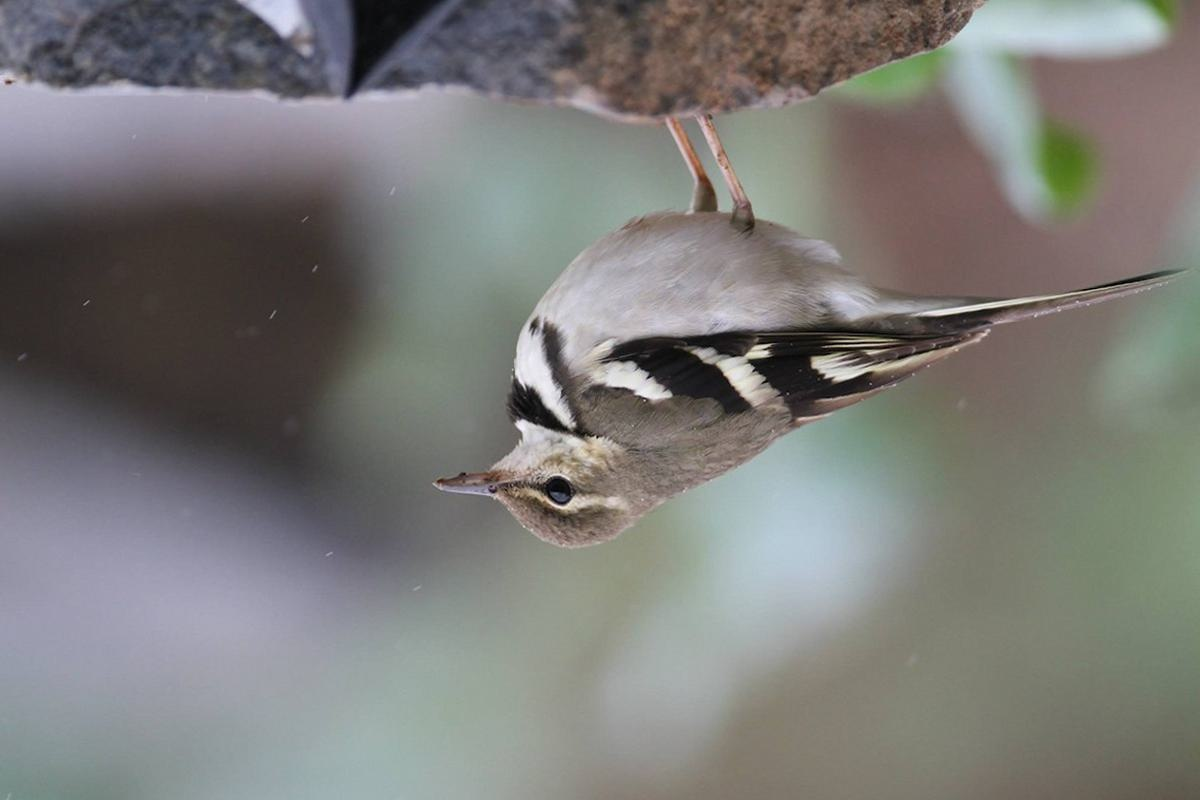wagtail: (466, 131, 1064, 572)
